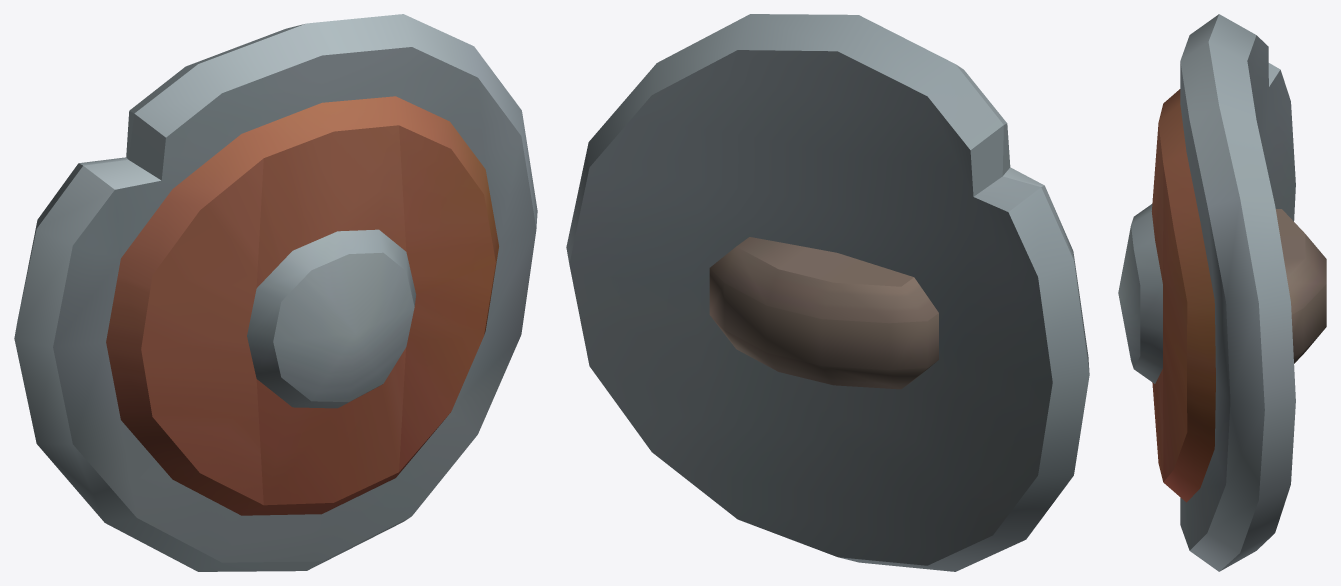
Rendered from shield_round.glb.
3 views of the same model, side by side, from view 1: azimuth 30°, elevation 25°; view 2: azimuth 150°, elevation 25°; view 3: azimuth 270°, elevation 25° (orthographic). The views are drawn at different scales.
Visible parts, largest first — view 1: shield_round; view 2: shield_round; view 3: shield_round.
Part boxes in pixels (left/top/right/bottom): shield_round: left=14, top=14, right=537, bottom=571; shield_round: left=566, top=14, right=1089, bottom=571; shield_round: left=1118, top=14, right=1326, bottom=571.
Bounding box in the file's own units: 0.8826 × 0.8826 × 0.3319.
Materials: 1 (1 with a texture image).
